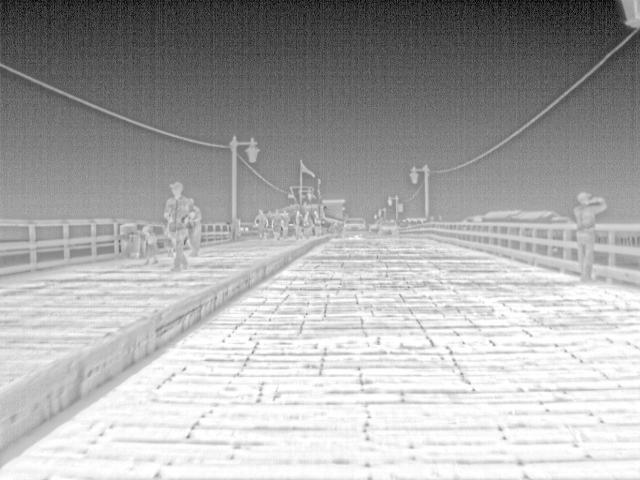car: (339, 219, 369, 239), (375, 219, 401, 239)
person: (571, 192, 608, 280), (163, 182, 193, 268), (139, 226, 159, 263), (188, 206, 202, 253), (254, 209, 269, 241), (270, 209, 284, 241), (278, 208, 291, 239), (312, 210, 325, 238), (293, 208, 305, 238), (302, 210, 314, 239)
